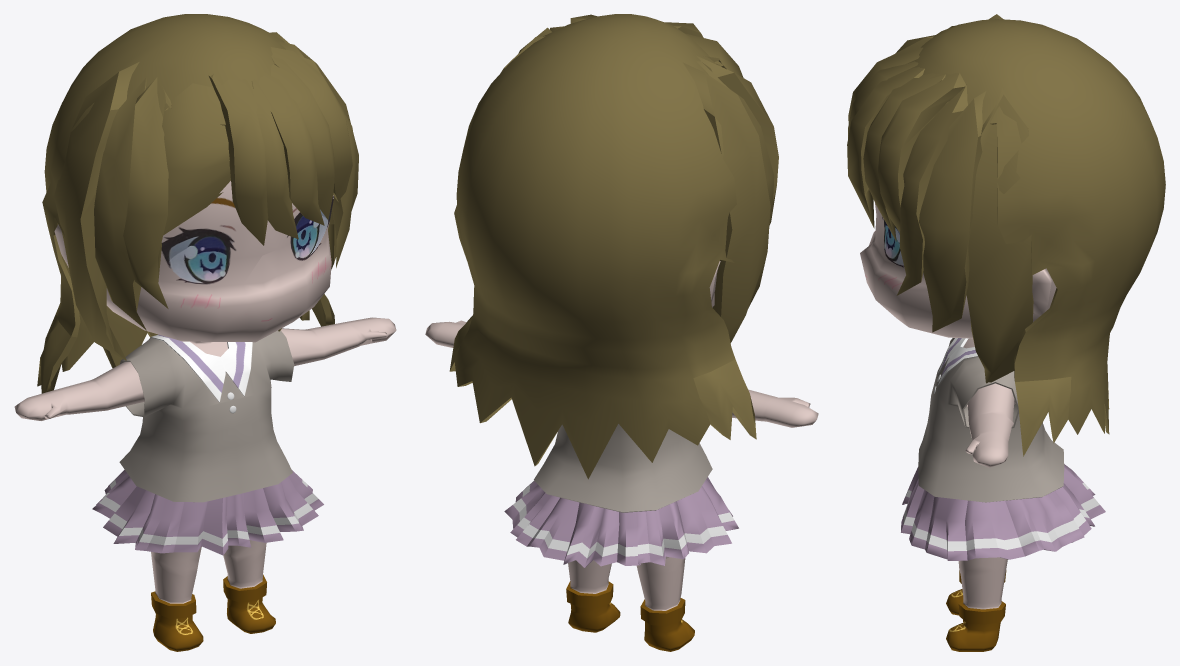
The model's file is Charactermain.fbx.
3 renders of one model, left to right at view 1: azimuth 30°, elevation 25°; view 2: azimuth 150°, elevation 25°; view 3: azimuth 270°, elevation 25°, orthographic. The views are drawn at different scales.
Visible parts, largest first — view 1: polySurface4, polySurface3, pSphere1, skirt3:polySurface15, polySurface2, pCube8, pCube12, pCube13, pCube10, pCube6, pCube11, pCube7 (+1 smaller); view 2: pSphere1, skirt3:polySurface15, polySurface2, polySurface3, polySurface4, pCube8, pCube12, pCube13; view 3: pSphere1, polySurface4, polySurface3, skirt3:polySurface15, polySurface1, pCube12, pCube8, pCube11, pCube6, pCube7, pCube10, pCube5.
Part boxes in pixels (x1,y1,x2,y2): polySurface4: (14,181,396,651); polySurface3: (119,330,294,502); pSphere1: (37,14,334,393); skirt3:polySurface15: (92,469,323,555); polySurface2: (54,62,139,360); pCube8: (123,48,357,308); pCube12: (94,41,358,330); pCube13: (162,83,230,235); pCube10: (208,74,268,245); pCube6: (251,72,324,225); pCube11: (271,47,352,202); pCube7: (271,57,334,219); pSphere1: (449,14,756,479); skirt3:polySurface15: (504,477,738,567); polySurface2: (683,62,770,342); polySurface3: (534,424,712,512); polySurface4: (425,261,818,651); pCube8: (550,26,778,223); pCube12: (518,27,774,225); pCube13: (685,33,743,77); pSphere1: (914,19,1165,456); polySurface4: (860,203,1056,651); polySurface3: (918,338,1064,502); skirt3:polySurface15: (901,464,1105,560); polySurface1: (966,88,1033,383); pCube12: (919,91,986,332); pCube8: (896,25,967,295); pCube11: (878,72,965,232); pCube6: (847,62,924,228); pCube7: (863,73,945,241); pCube10: (848,36,933,123); pCube5: (848,61,918,138).
Bounding box in the file's own units: 2.21 × 3.32 × 1.61.
